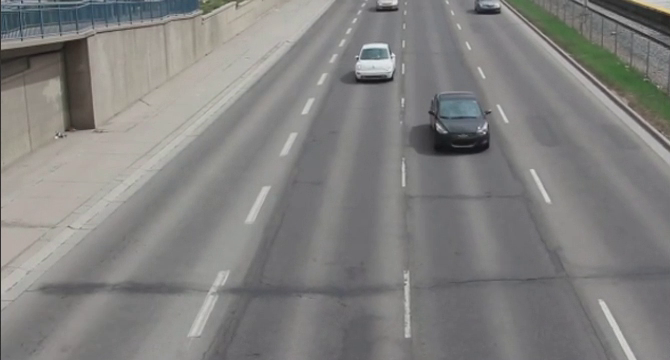car: (426, 90, 494, 154), (352, 37, 401, 83), (373, 1, 401, 16), (474, 1, 502, 16)
